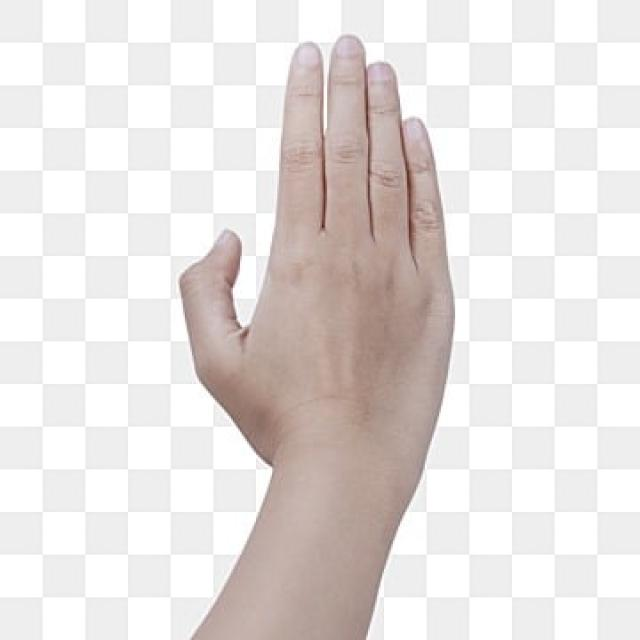Nail: (294, 42, 322, 73), (337, 33, 363, 60), (370, 63, 396, 86), (406, 120, 427, 144), (212, 228, 233, 251)
